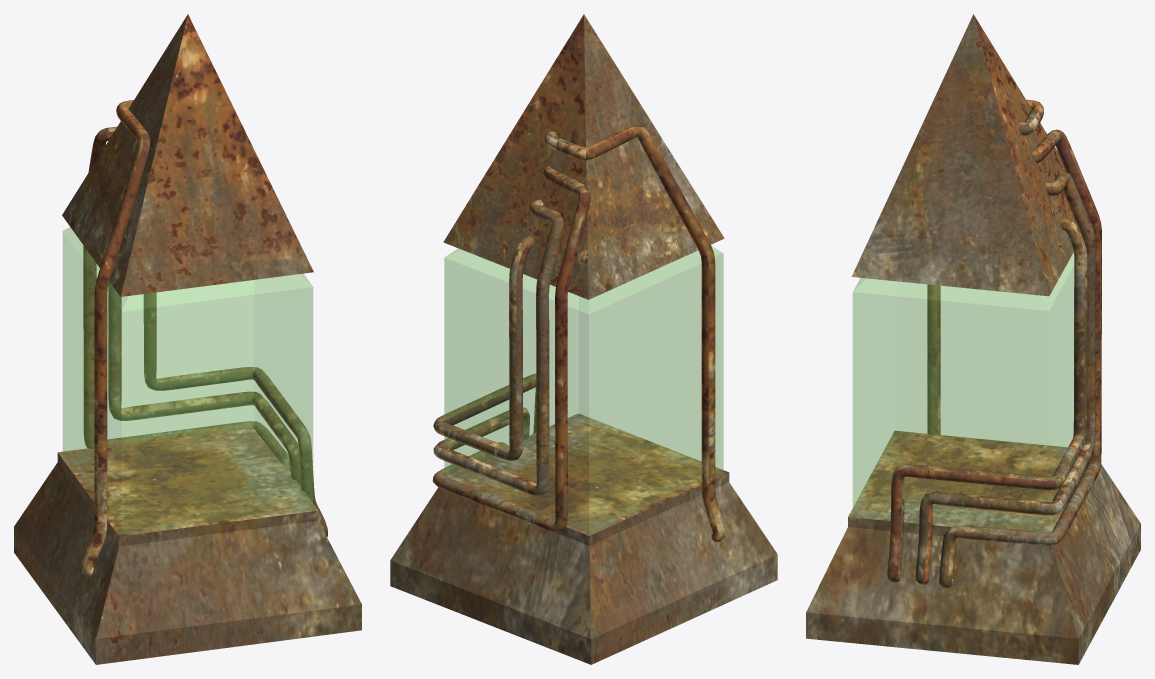
Rendered from hackyeah_models.glb.
3 renders of one model, left to right at view 1: azimuth 30°, elevation 25°; view 2: azimuth 150°, elevation 25°; view 3: azimuth 270°, elevation 25°, orthographic.
Parts seen in each view (by area): view 1: Cone.006; view 2: Cone.006; view 3: Cone.006.
Part boxes in pixels (x1=…): Cone.006: x1=14, y1=14, x2=361, y2=664; Cone.006: x1=390, y1=14, x2=777, y2=664; Cone.006: x1=806, y1=14, x2=1140, y2=664.
Size of the model in its own units: 0.7854 by 1.5 by 0.7854.
Materials: 4 (3 with a texture image).
